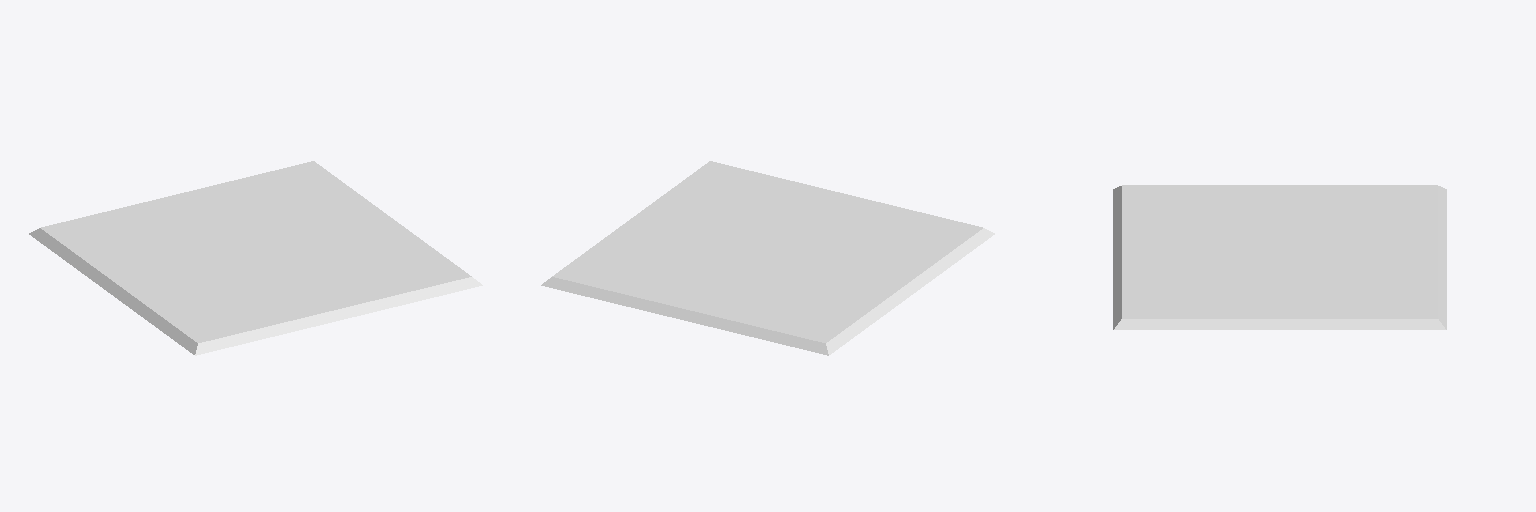
Rendered from plate.obj.
The picture shows the model from 3 angles: view 1: azimuth 30°, elevation 25°; view 2: azimuth 150°, elevation 25°; view 3: azimuth 270°, elevation 25°; orthographic projection.
Parts seen in each view (by area): view 1: Plate.002_Cube.013; view 2: Plate.002_Cube.013; view 3: Plate.002_Cube.013.
Part boxes in pixels (bbox=[...]): Plate.002_Cube.013: bbox=[29, 161, 482, 355]; Plate.002_Cube.013: bbox=[541, 161, 994, 355]; Plate.002_Cube.013: bbox=[1113, 185, 1446, 329].
Size of the model in its own units: 3 by 0.075 by 3.